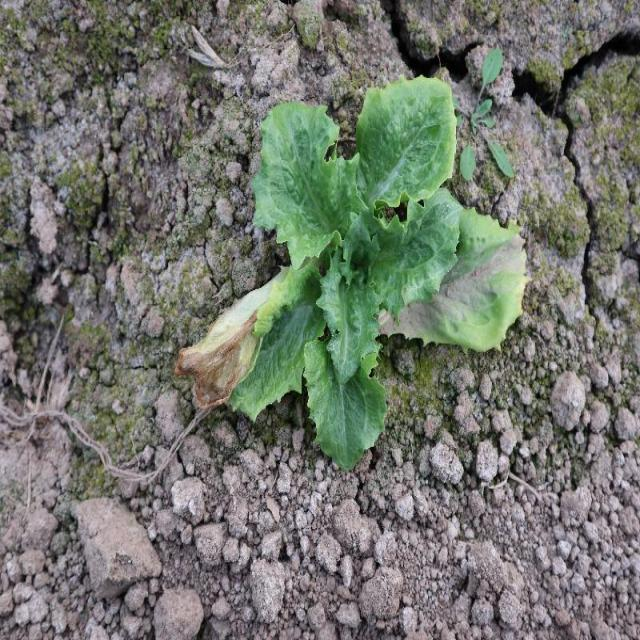crop: (254, 73, 461, 470)
